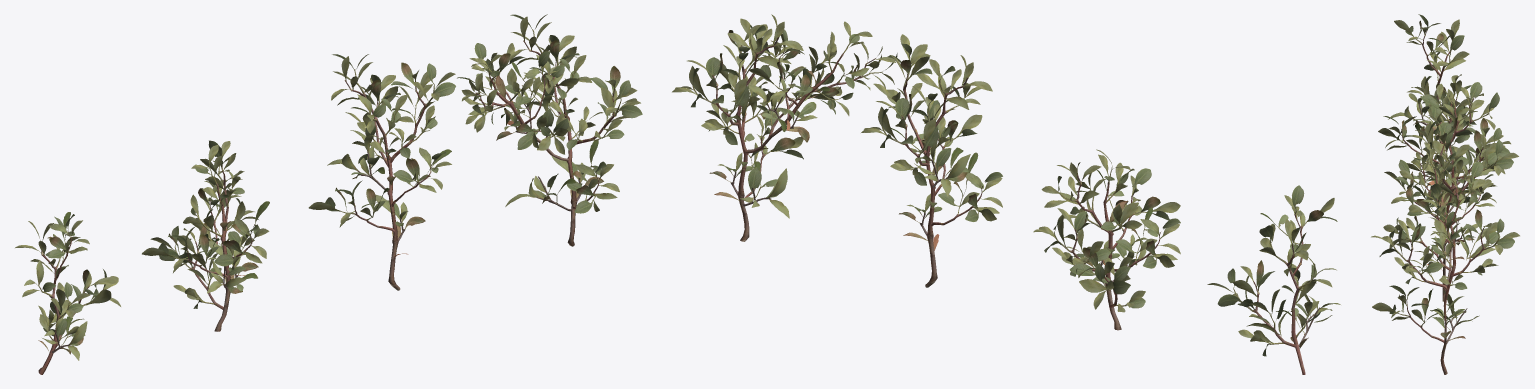
The model's file is shrub_04.glb.
3 renders of one model, left to right at view 1: azimuth 30°, elevation 25°; view 2: azimuth 150°, elevation 25°; view 3: azimuth 270°, elevation 25°, orthographic. The views are drawn at different scales.
Parts seen in each view (by area): view 1: shrub_04; view 2: shrub_04; view 3: shrub_04.
Part boxes in pixels (x1,y1,x2,y2): shrub_04: [15, 14, 642, 374]; shrub_04: [672, 14, 1340, 374]; shrub_04: [1371, 14, 1519, 374].
Size of the model in its own units: 0.5837 by 0.2192 by 0.1461.
1 material, 1 textured.
